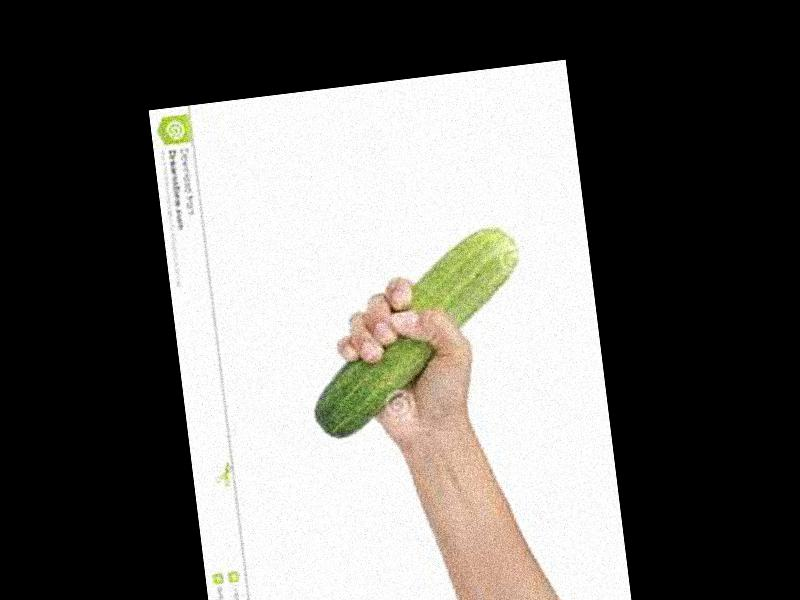Cucumber: (294, 225, 536, 445)
